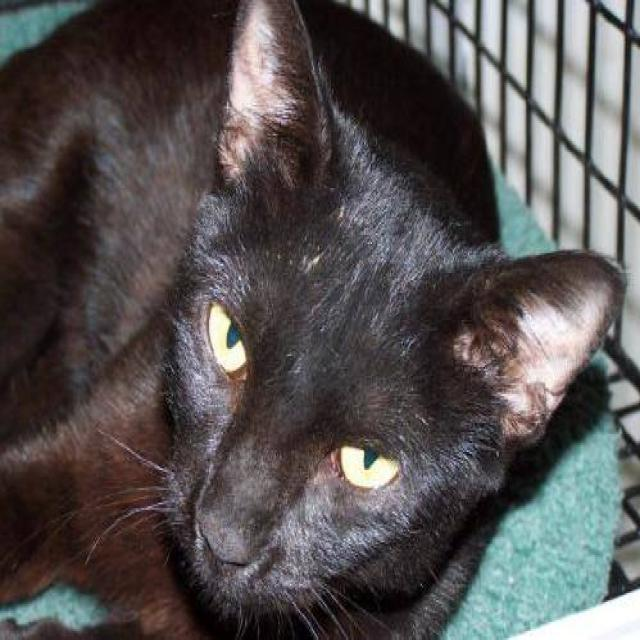Cat: (173, 1, 603, 640)
